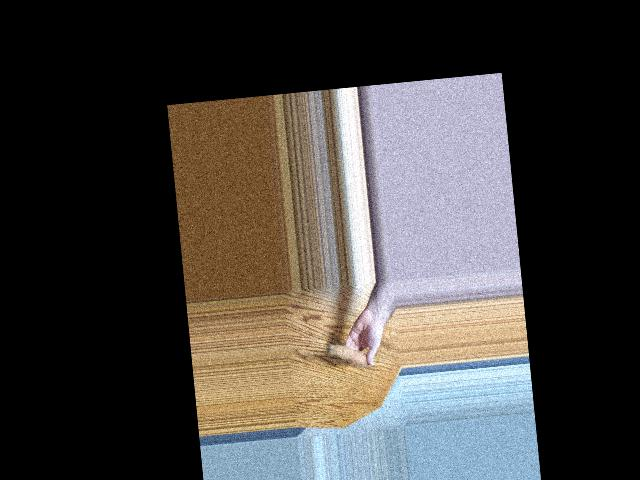sweet_potato: (327, 338, 372, 370)
